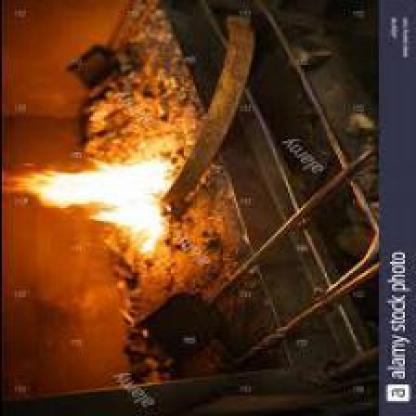Fire: (9, 161, 179, 254)
